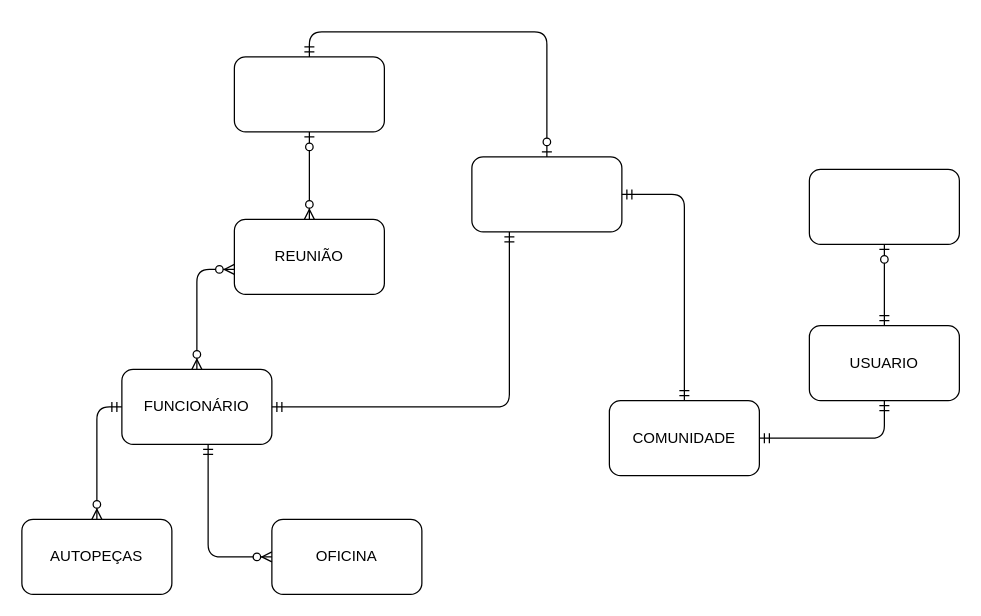
Some shapes in this 981 by 616 pixel diagram are drawn without their labels. The centre of each missing label's shape, as x and y in pixels:
"CADASTRO" belongs at (883,206).
"CLIENTE" belongs at (546,194).
"LEADS" belongs at (308,94).
